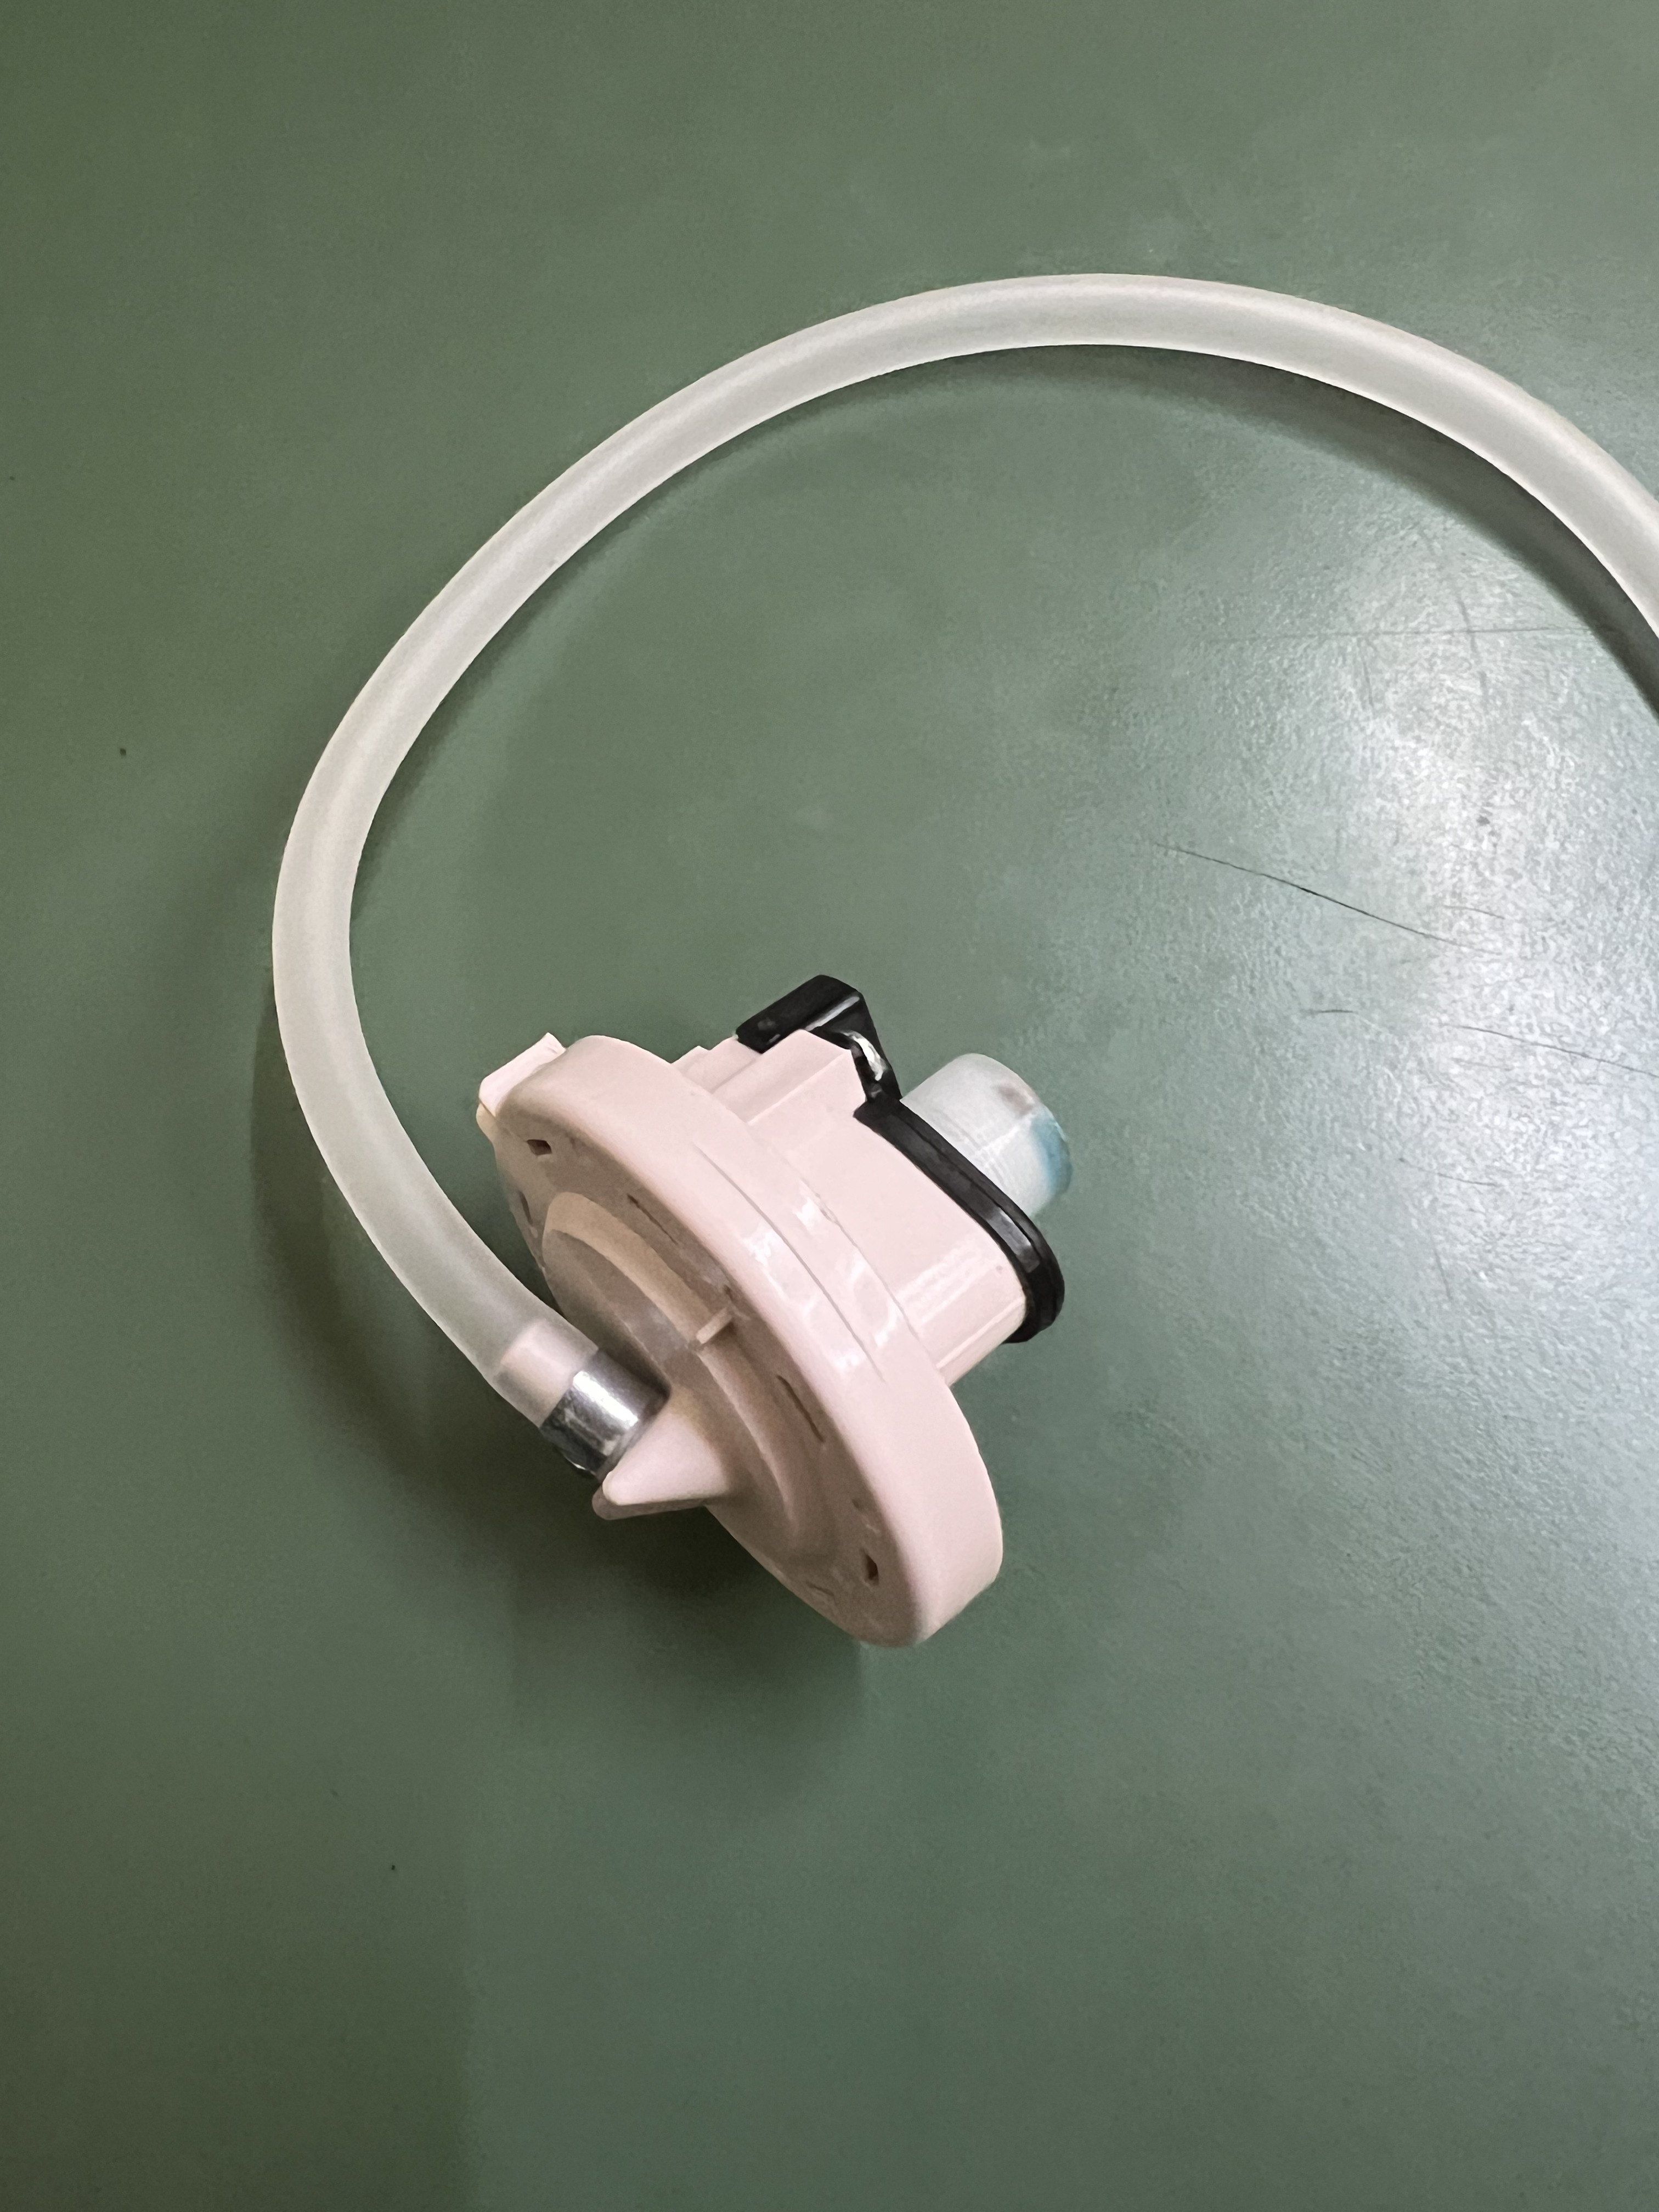pressure_sensor: (223, 813, 1204, 1693)
